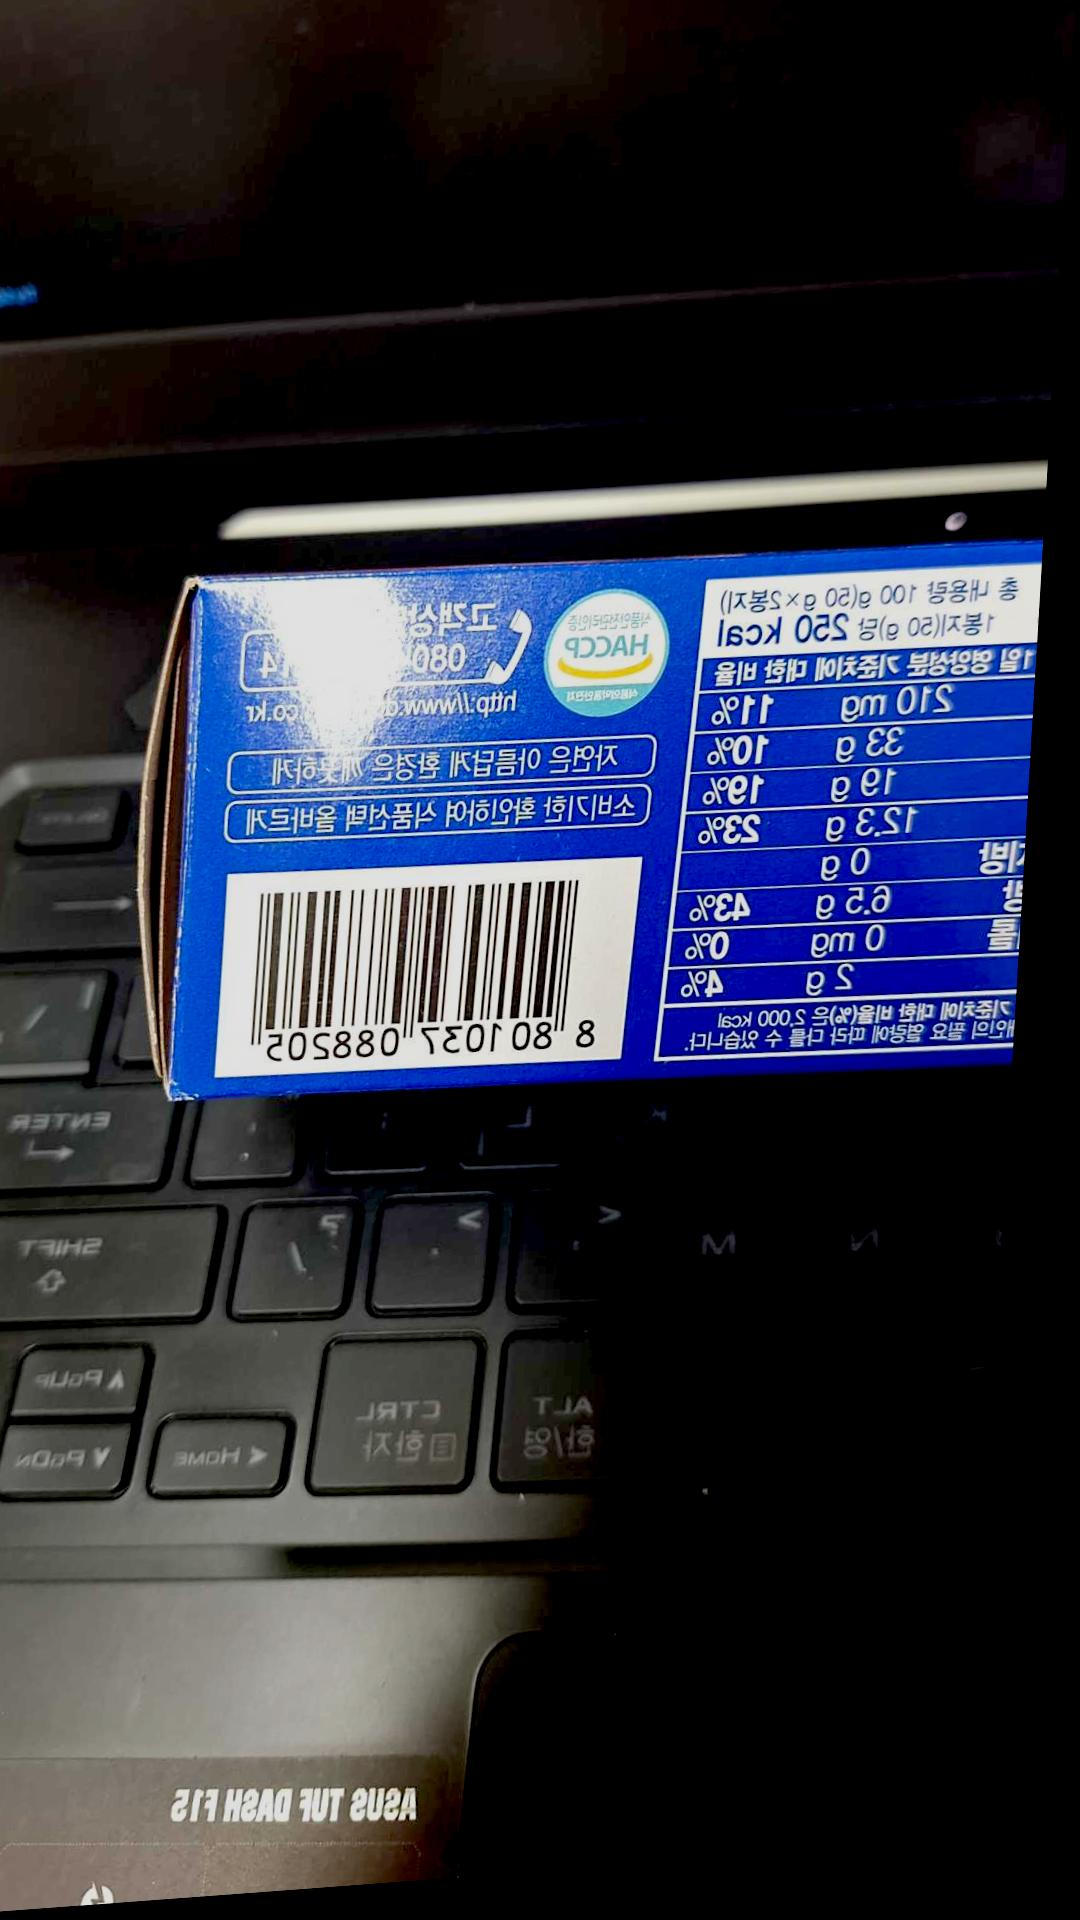kuandku-2000-2024-11-08: (236, 873, 645, 1081)
